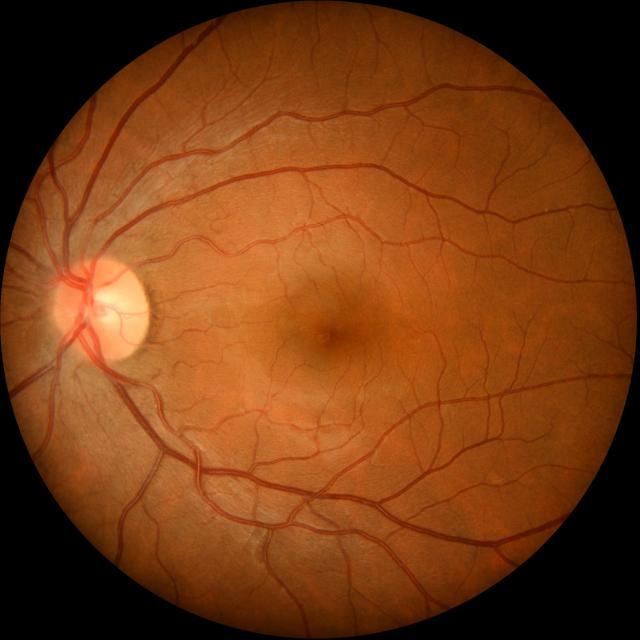OC: (90, 288, 124, 327)
OD: (53, 258, 147, 362)
